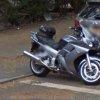Motorcycle: (19, 20, 100, 93)
